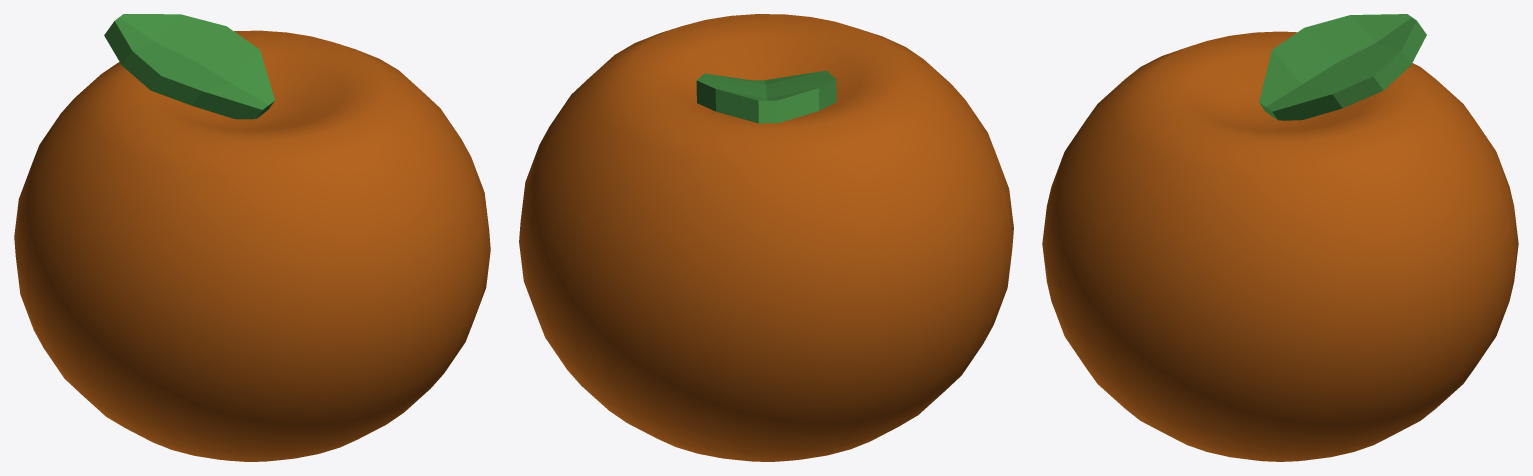
Rendered from Orange_Item.fbx.
The picture shows the model from 3 angles, left to right: view 1: azimuth 30°, elevation 25°; view 2: azimuth 150°, elevation 25°; view 3: azimuth 270°, elevation 25°; orthographic projection. The views are drawn at different scales.
Visible parts, largest first — view 1: Orange; view 2: Orange; view 3: Orange.
Part boxes in pixels (x1,y1,x2,y2): Orange: (14,14,490,461); Orange: (519,14,1013,461); Orange: (1042,14,1518,461).
Bounding box in the file's own units: 200 × 180 × 200.
